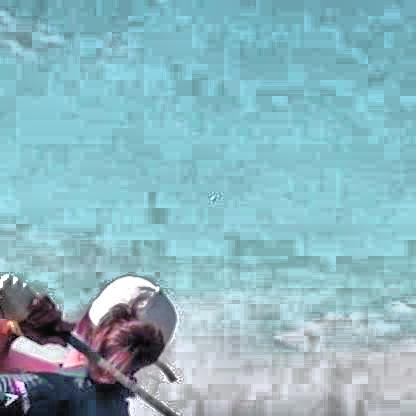golfball: (207, 192, 215, 199)
